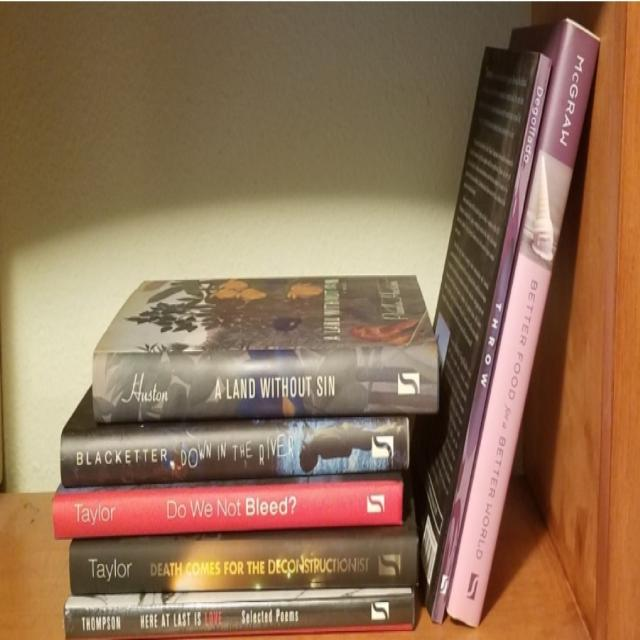Books: (446, 20, 599, 627), (412, 50, 551, 622), (94, 277, 439, 424), (60, 390, 409, 486), (70, 500, 418, 595), (52, 475, 404, 540), (65, 587, 415, 638)
